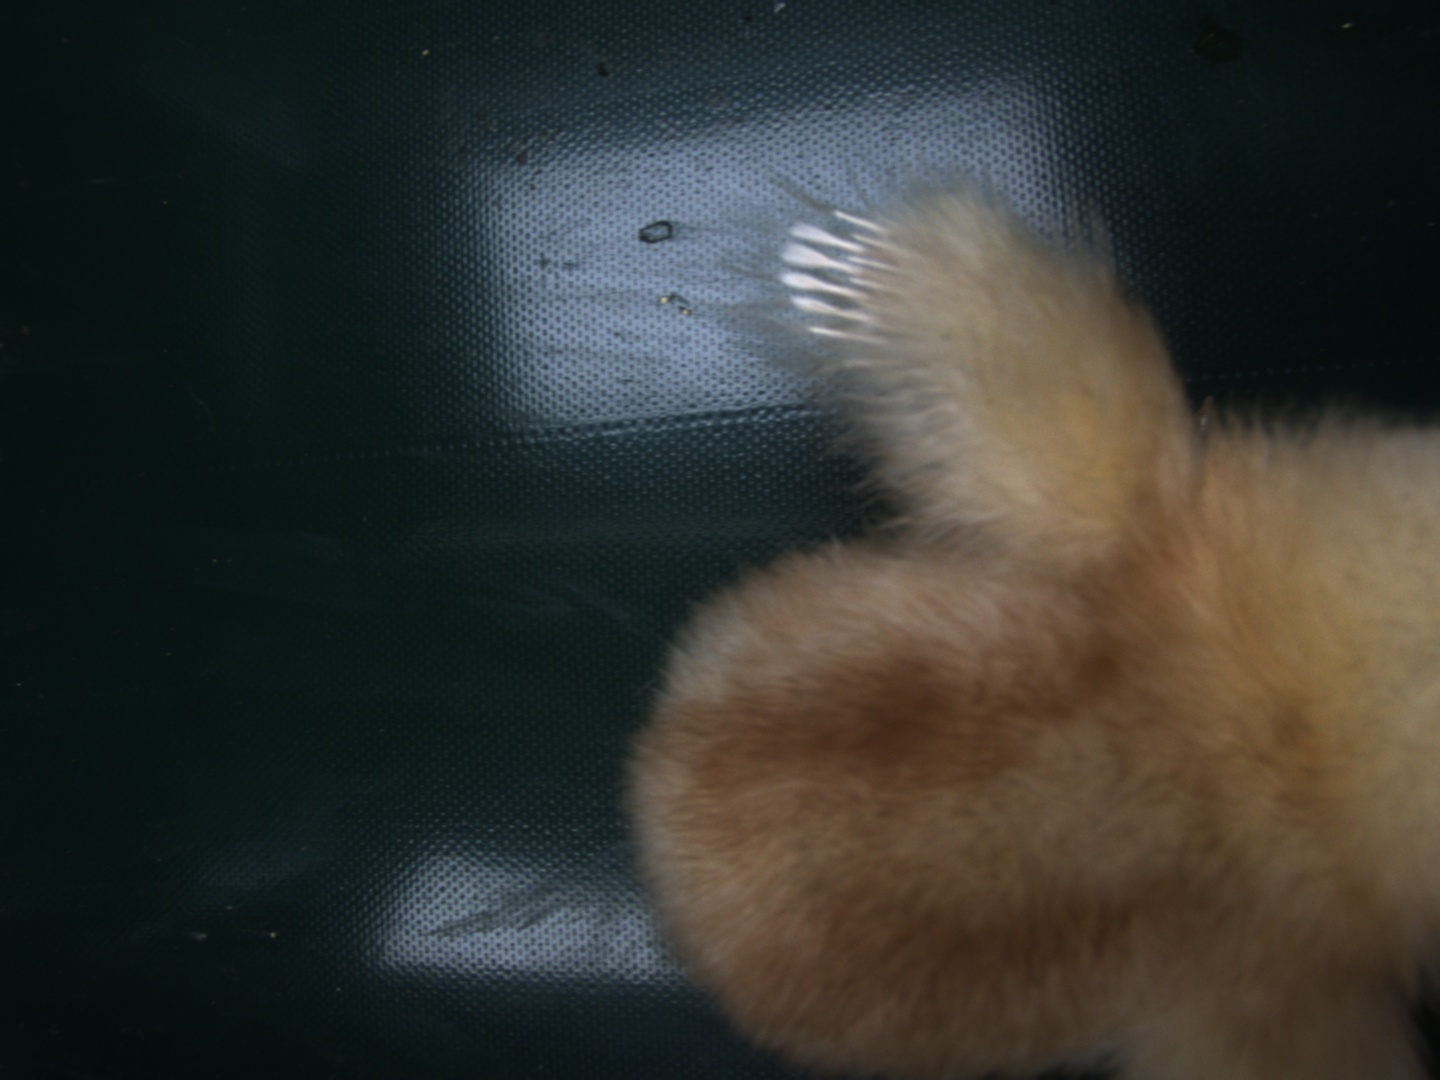female: (764, 204, 935, 352)
